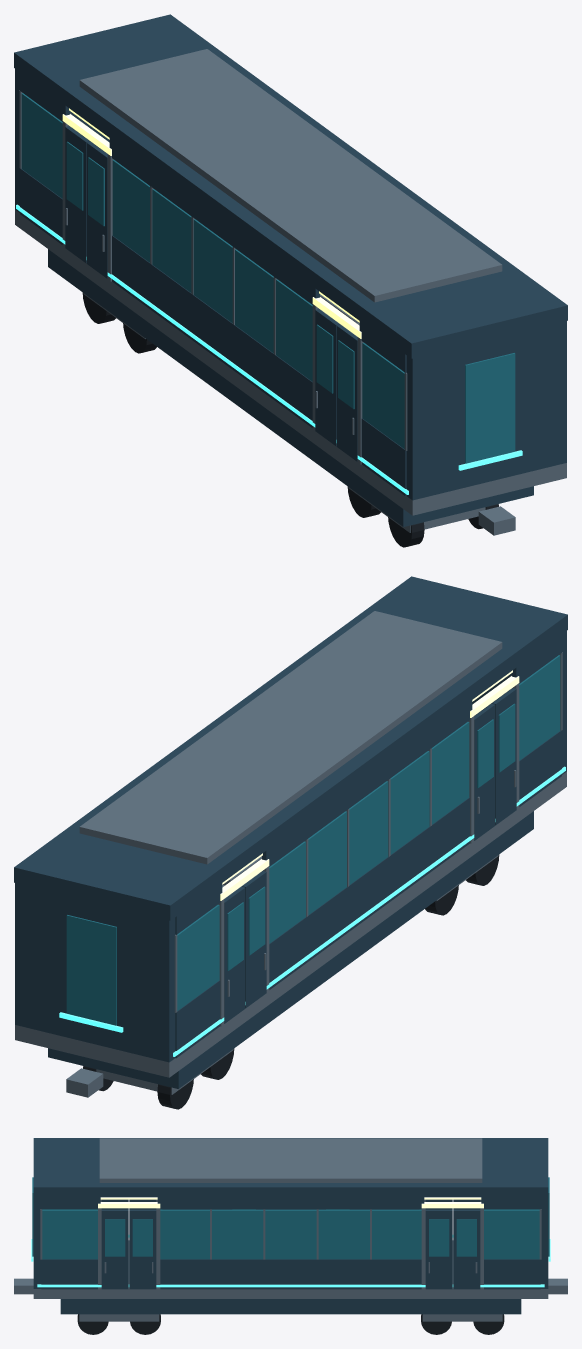
Rendered from passenger_car.glb.
3 views of the same model, one above another, from view 1: azimuth 30°, elevation 25°; view 2: azimuth 150°, elevation 25°; view 3: azimuth 270°, elevation 25° (orthographic). The views are drawn at different scales.
Parts seen in each view (by area): view 1: passenger_body, door_left_0_0, door_left_1_0, door_left_1_1, door_left_0_1, coupling_socket_6.85, axle_1_1; view 2: passenger_body, door_left_1_1, door_left_0_1, door_left_0_0, door_left_1_0, coupling_socket_-6.85, axle_0_0; view 3: passenger_body, door_right_0_0, door_right_0_1, door_right_1_0, door_right_1_1, bogie_frame_0, bogie_frame_1, axle_0_0, axle_1_1, axle_0_1, axle_1_0, coupling_socket_-6.85 (+1 smaller).
Boxes of the visible parts, x1=… form: passenger_body: x1=14, y1=14, x2=567, y2=526; door_left_0_0: x1=65, y1=126, x2=89, y2=263; door_left_1_0: x1=315, y1=309, x2=339, y2=446; door_left_1_1: x1=336, y1=324, x2=357, y2=461; door_left_0_1: x1=86, y1=141, x2=107, y2=278; coupling_socket_6.85: x1=478, y1=506, x2=515, y2=535; axle_1_1: x1=388, y1=504, x2=498, y2=547; passenger_body: x1=14, y1=576, x2=567, y2=1088; door_left_1_1: x1=492, y1=688, x2=516, y2=825; door_left_0_1: x1=242, y1=871, x2=266, y2=1008; door_left_0_0: x1=224, y1=886, x2=245, y2=1023; door_left_1_0: x1=474, y1=703, x2=495, y2=840; coupling_socket_-6.85: x1=66, y1=1068, x2=103, y2=1097; axle_0_0: x1=83, y1=1066, x2=193, y2=1109; passenger_body: x1=31, y1=1138, x2=550, y2=1314; door_right_0_0: x1=453, y1=1209, x2=480, y2=1289; door_right_0_1: x1=425, y1=1209, x2=452, y2=1289; door_right_1_0: x1=129, y1=1209, x2=156, y2=1289; door_right_1_1: x1=101, y1=1209, x2=128, y2=1289; bogie_frame_0: x1=422, y1=1314, x2=502, y2=1321; bogie_frame_1: x1=79, y1=1314, x2=159, y2=1321; axle_0_0: x1=473, y1=1314, x2=504, y2=1334; axle_1_1: x1=77, y1=1314, x2=108, y2=1334; axle_0_1: x1=421, y1=1314, x2=451, y2=1334; axle_1_0: x1=130, y1=1314, x2=160, y2=1334; coupling_socket_-6.85: x1=548, y1=1278, x2=567, y2=1294.
Bounding box in the file's own units: 3.13 × 4.6 × 14.2.
